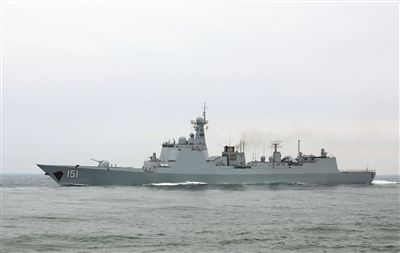warship: (34, 108, 376, 194)
